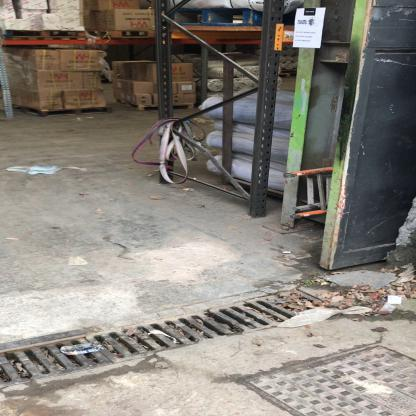vertical_damage: (1, 83, 20, 104)
